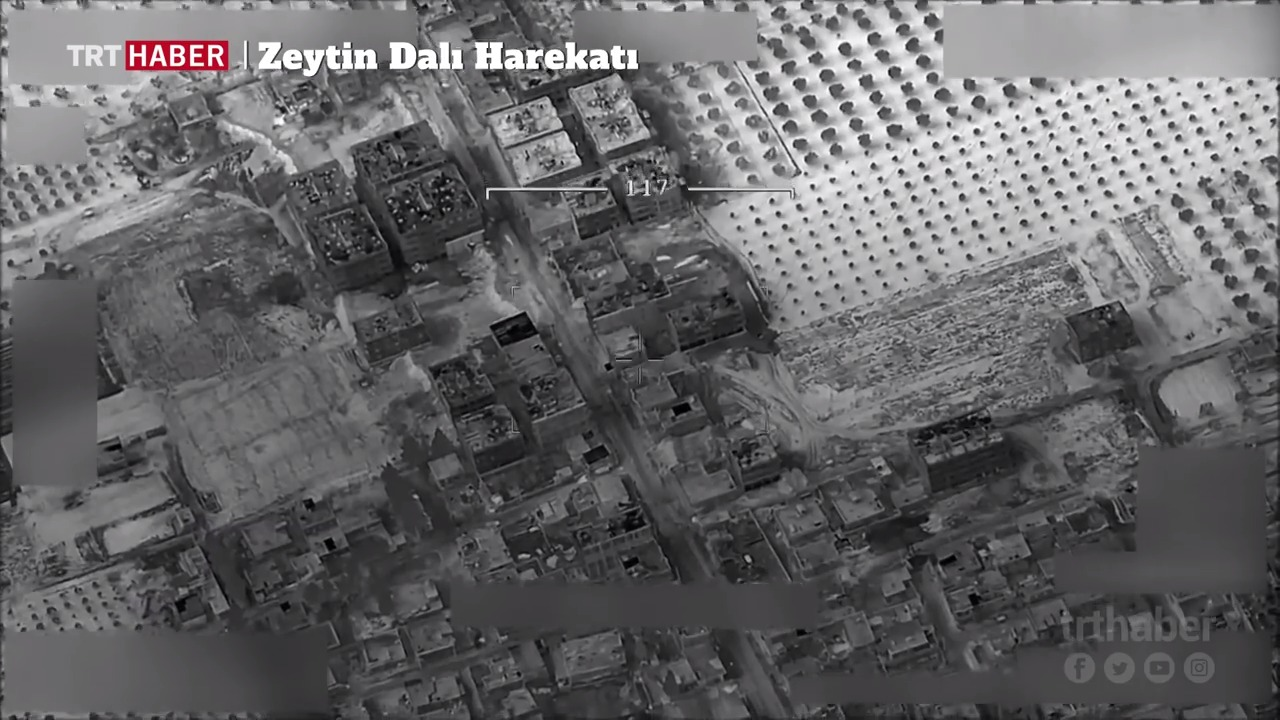bina: (366, 162, 496, 267), (898, 397, 1030, 497)
